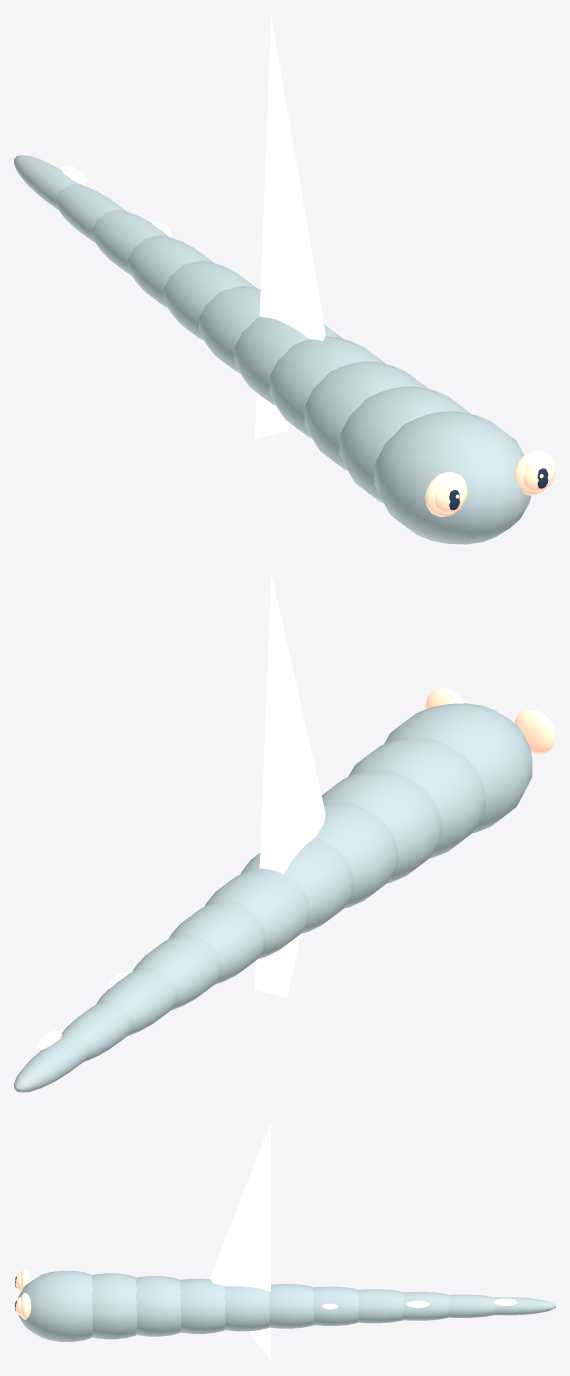
The model's file is gravecoil.glb.
3 views of the same model, one above another, from view 1: azimuth 30°, elevation 25°; view 2: azimuth 150°, elevation 25°; view 3: azimuth 270°, elevation 25° (orthographic). The views are drawn at different scales.
Visible parts, largest first — view 1: eel-segment-00, dorsal-fin-blade, eel-segment-01, eel-segment-02, eel-segment-03, eel-segment-04, eel-segment-06, eel-segment-05, eel-segment-07, eel-segment-08, eel-segment-09, eel-segment-10 (+3 smaller); view 2: dorsal-fin-blade, eel-segment-00, eel-segment-01, eel-segment-02, eel-segment-03, eel-segment-05, eel-segment-06, eel-segment-04, eel-segment-07, eel-segment-08, eel-segment-09, eel-segment-10 (+1 smaller); view 3: dorsal-fin-blade, eel-segment-00, eel-segment-01, eel-segment-02, eel-segment-03, eel-segment-04, eel-segment-05, eel-segment-06, eel-segment-07, eel-segment-08, eel-segment-09, eel-segment-10.
Boxes of the visible parts, x1=… form: eel-segment-00: x1=374, y1=411, x2=530, y2=544; dorsal-fin-blade: x1=255, y1=16, x2=325, y2=439; eel-segment-01: x1=339, y1=386, x2=471, y2=503; eel-segment-02: x1=304, y1=361, x2=428, y2=470; eel-segment-03: x1=269, y1=336, x2=385, y2=438; eel-segment-04: x1=234, y1=317, x2=342, y2=405; eel-segment-06: x1=163, y1=260, x2=256, y2=340; eel-segment-05: x1=199, y1=286, x2=260, y2=373; eel-segment-07: x1=128, y1=235, x2=212, y2=307; eel-segment-08: x1=92, y1=209, x2=168, y2=275; eel-segment-09: x1=56, y1=184, x2=126, y2=242; eel-segment-10: x1=14, y1=155, x2=82, y2=209; dorsal-fin-blade: x1=255, y1=574, x2=325, y2=997; eel-segment-00: x1=384, y1=703, x2=532, y2=833; eel-segment-01: x1=348, y1=737, x2=485, y2=858; eel-segment-02: x1=321, y1=770, x2=441, y2=883; eel-segment-03: x1=316, y1=802, x2=397, y2=908; eel-segment-05: x1=204, y1=868, x2=310, y2=959; eel-segment-06: x1=168, y1=901, x2=266, y2=984; eel-segment-04: x1=240, y1=837, x2=354, y2=933; eel-segment-07: x1=132, y1=934, x2=222, y2=1010; eel-segment-08: x1=96, y1=967, x2=177, y2=1035; eel-segment-09: x1=61, y1=1001, x2=133, y2=1061; eel-segment-10: x1=14, y1=1035, x2=88, y2=1092; dorsal-fin-blade: x1=210, y1=1122, x2=270, y2=1360; eel-segment-00: x1=18, y1=1270, x2=92, y2=1341; eel-segment-01: x1=92, y1=1273, x2=137, y2=1339; eel-segment-02: x1=136, y1=1276, x2=181, y2=1336; eel-segment-03: x1=180, y1=1278, x2=225, y2=1333; eel-segment-04: x1=224, y1=1286, x2=269, y2=1331; eel-segment-05: x1=268, y1=1284, x2=314, y2=1328; eel-segment-06: x1=313, y1=1286, x2=359, y2=1325; eel-segment-07: x1=358, y1=1289, x2=403, y2=1323; eel-segment-08: x1=403, y1=1292, x2=449, y2=1320; eel-segment-09: x1=448, y1=1294, x2=495, y2=1317; eel-segment-10: x1=494, y1=1297, x2=555, y2=1315.
Size of the model in its own units: 0.824 by 2.55 by 5.31.
